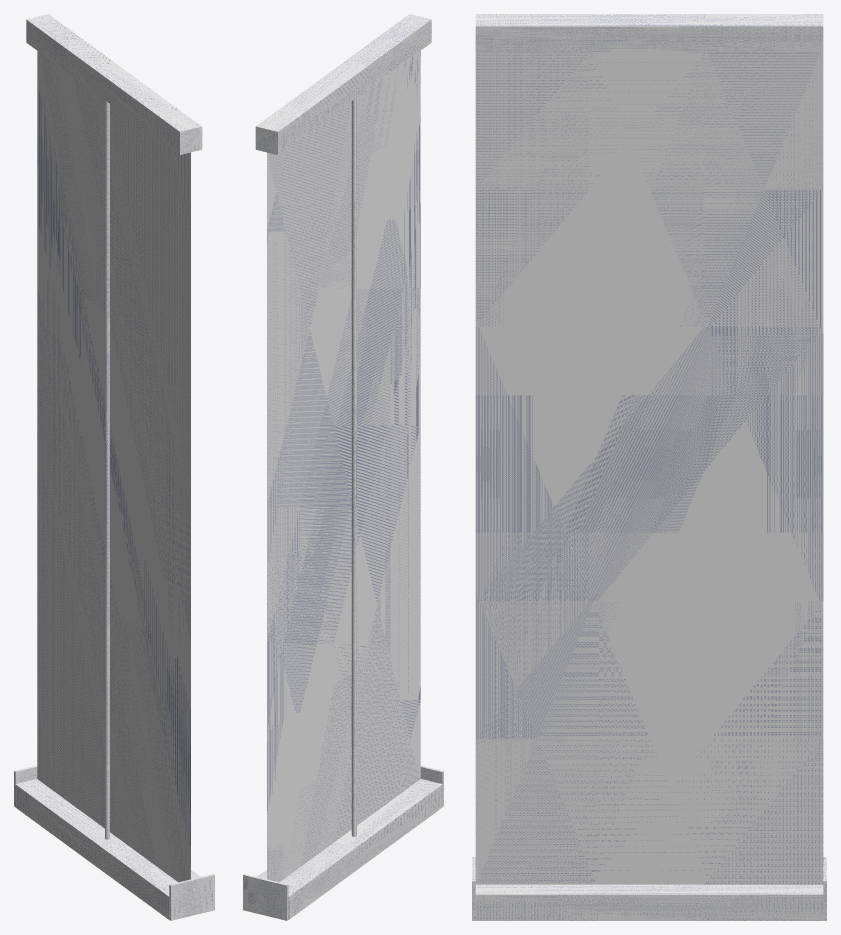
File: banner.dae
The picture shows the model from 3 angles, left to right: view 1: azimuth 30°, elevation 25°; view 2: azimuth 150°, elevation 25°; view 3: azimuth 270°, elevation 25°; orthographic projection. The views are drawn at different scales.
Visible parts, largest first — view 1: group_0, group_2, group_1, standing_banner; view 2: group_0, group_2, group_1, standing_banner; view 3: group_0, group_1, group_2.
Part boxes in pixels (x1,y1,x2,y2): group_0: (37, 51, 190, 882); group_2: (14, 765, 214, 920); group_1: (26, 14, 202, 154); standing_banner: (105, 100, 109, 839); group_0: (267, 51, 420, 882); group_2: (243, 765, 443, 920); group_1: (255, 14, 431, 154); standing_banner: (351, 97, 356, 836); group_0: (475, 52, 823, 884); group_1: (475, 14, 823, 52); group_2: (472, 857, 826, 920).
Bounding box in the file's own units: 3.94 × 24.1 × 66.57.
